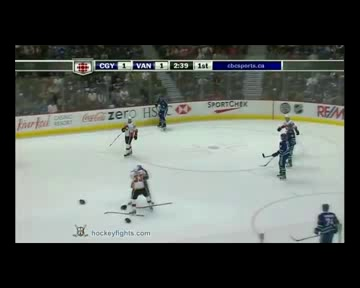normal: (256, 111, 299, 183), (109, 112, 142, 162), (151, 92, 173, 132)
